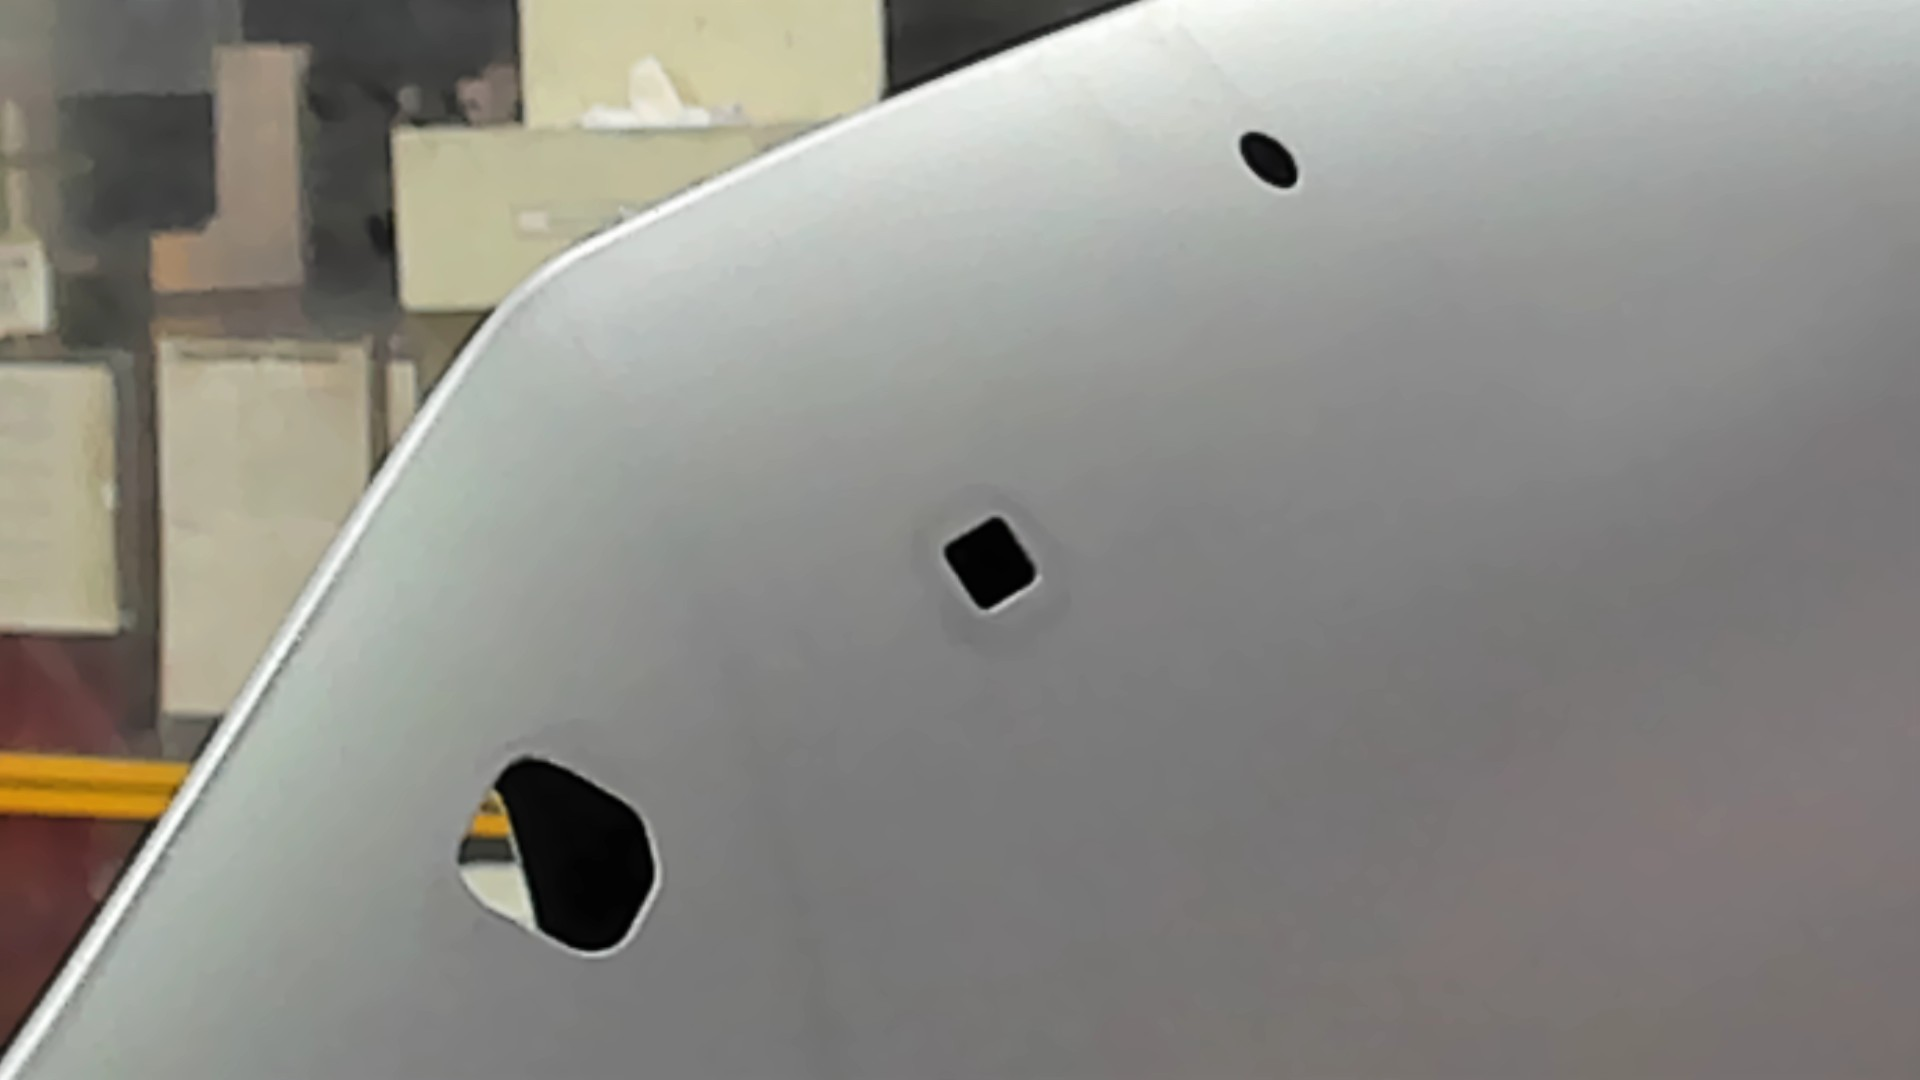chico: (1236, 127, 1302, 194)
grande: (450, 746, 665, 964)
mediano: (934, 510, 1050, 622)
